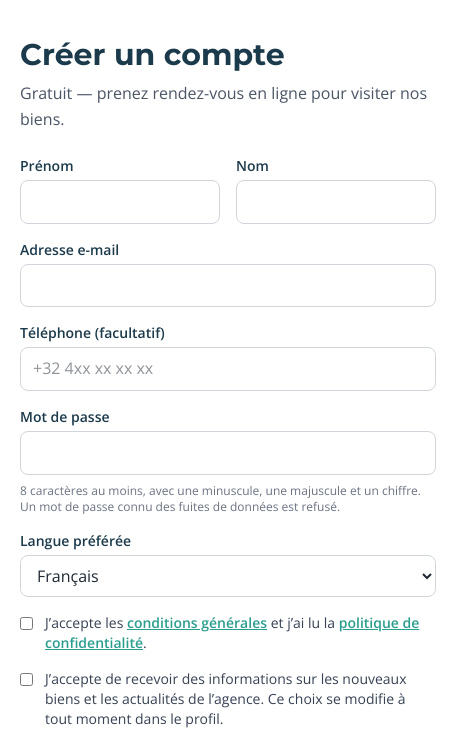
Test: Inscription (cas M1) › envoie les données conformes et annonce le courriel d’activation
Type "Test" into the field labelled "Prénom" at point(120, 202), box top-left (20, 180), bottom-right (220, 224)
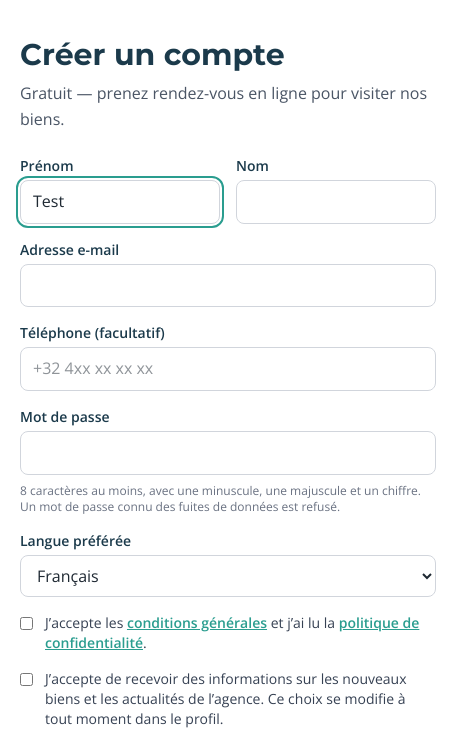
Type "Vitest" into the field labelled "Nom" at point(336, 202), box top-left (236, 180), bottom-right (436, 224)
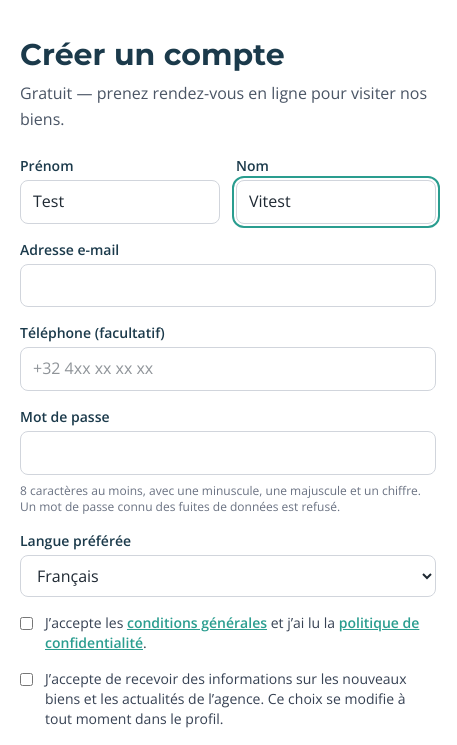
Type "test@essai.be" into the field labelled "Adresse e-mail" at point(228, 286), box top-left (20, 264), bottom-right (436, 307)
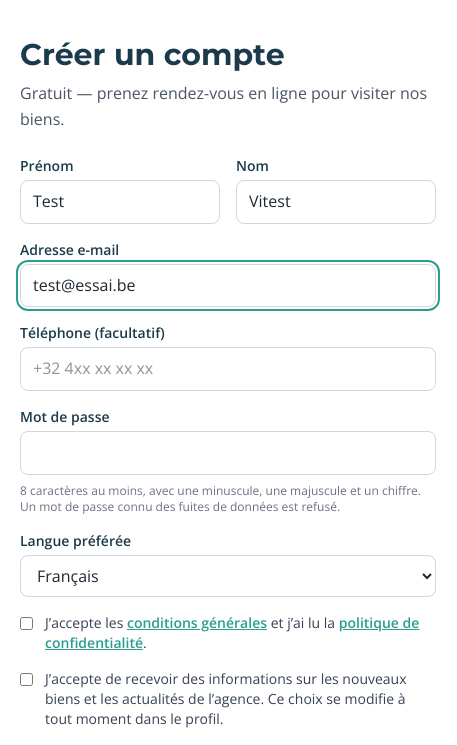
Type "Visite-Bxl-2026" into the password field labelled "Mot de passe" at point(228, 453), box top-left (20, 431), bottom-right (436, 475)
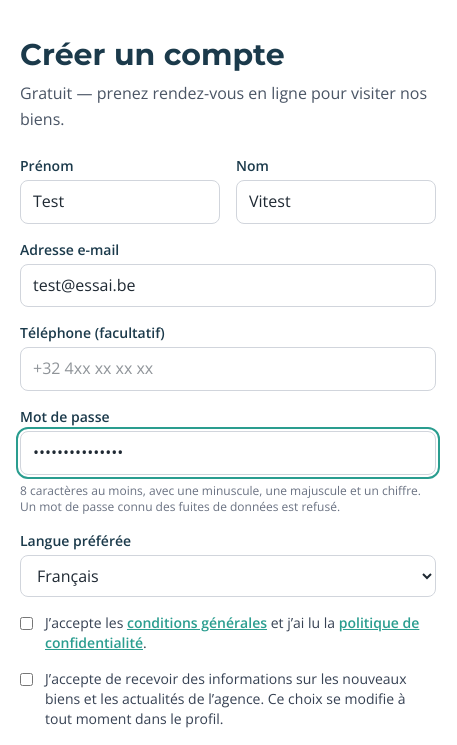
Click the checkbox labelled "conditions générales" at point(26, 623), box top-left (20, 617), bottom-right (33, 630)
(page scrolled)
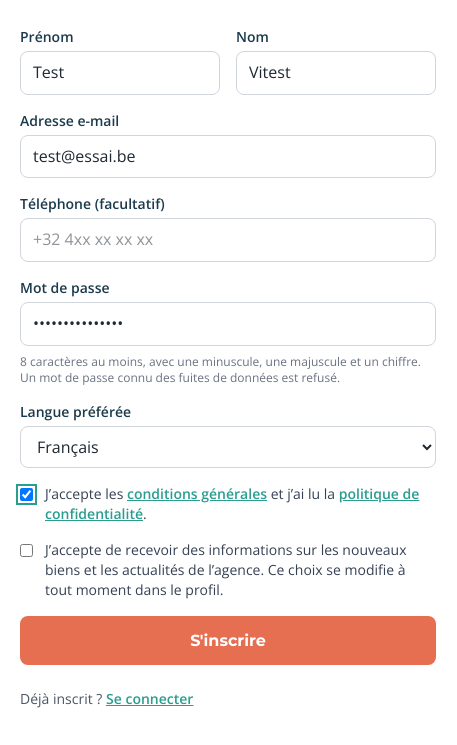
Click the button "S'inscrire" at point(228, 640), box top-left (20, 616), bottom-right (436, 665)
(page scrolled)
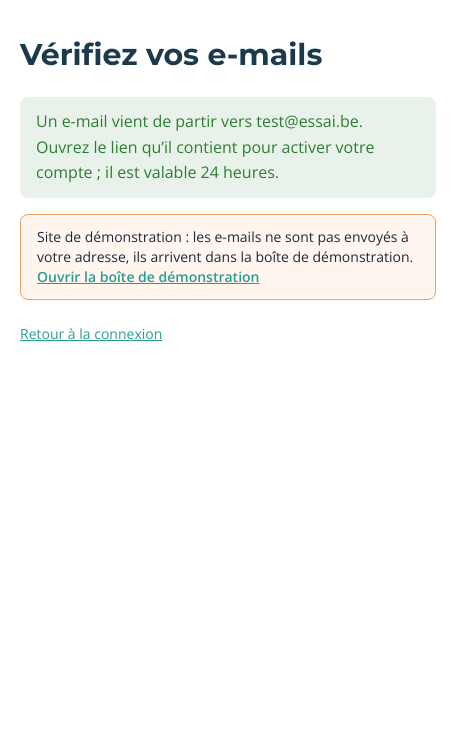
Now the message shows "test@essai.be", box top-left (36, 110), bottom-right (374, 183)
